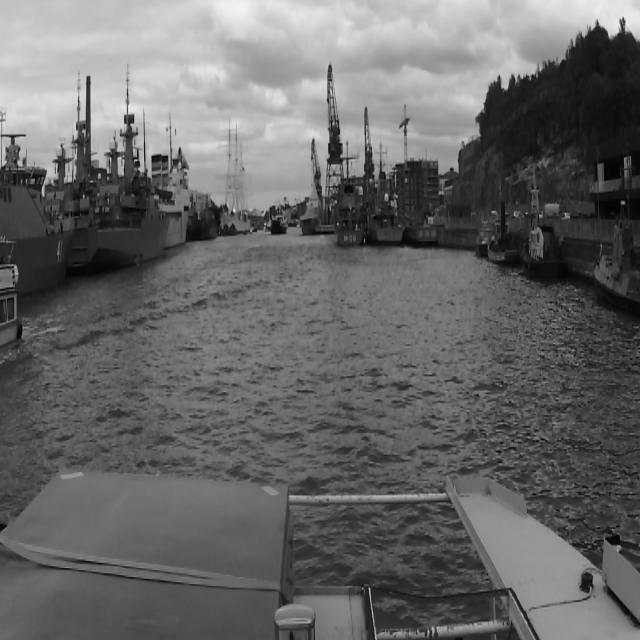ship: (63, 60, 171, 272), (0, 104, 67, 301), (592, 207, 640, 316), (146, 152, 194, 254), (215, 111, 249, 234), (366, 159, 408, 248), (334, 139, 366, 253), (523, 208, 569, 283), (486, 198, 522, 271), (198, 193, 216, 243), (298, 200, 322, 237), (474, 220, 494, 256), (185, 194, 199, 242), (270, 207, 288, 237), (228, 220, 236, 238), (222, 222, 228, 236), (242, 228, 248, 236), (249, 228, 253, 236)
